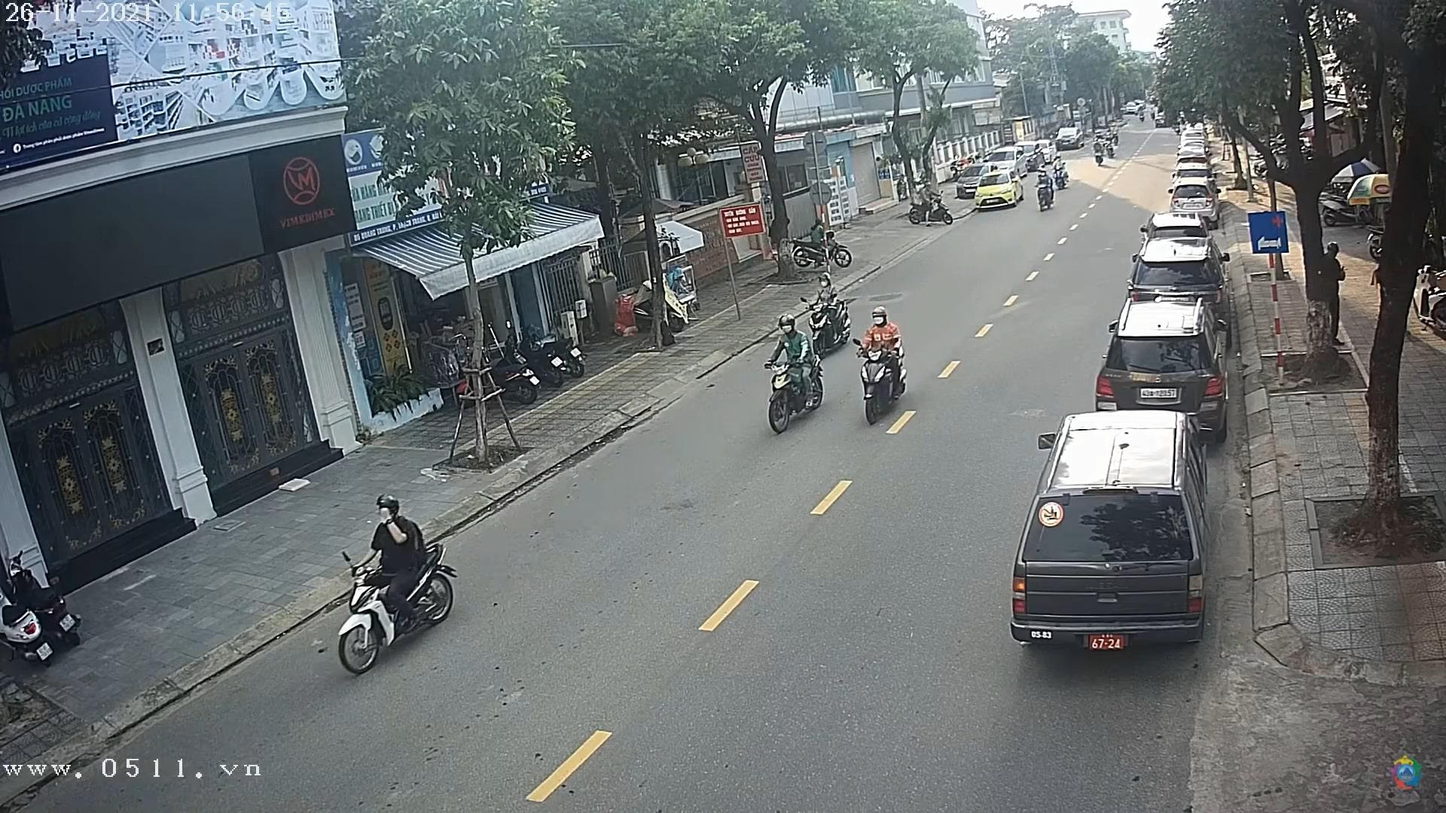car: (1058, 126, 1085, 148)
motorbike: (328, 537, 462, 683), (765, 355, 827, 437), (859, 337, 911, 425), (803, 298, 857, 358)
